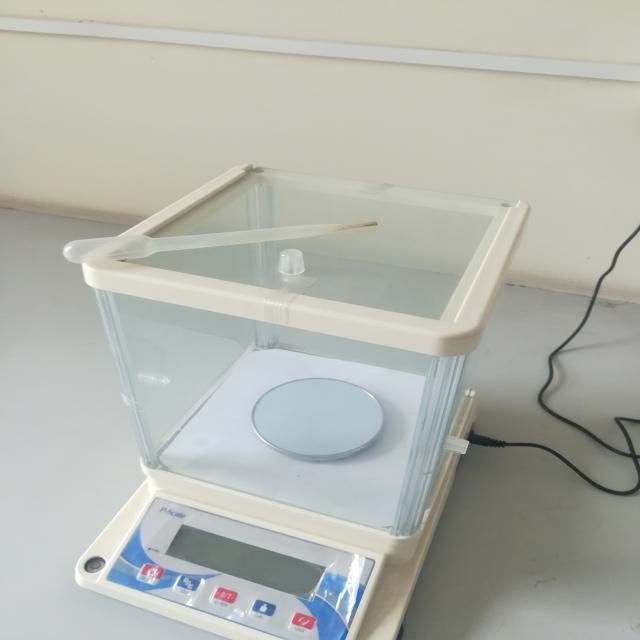Pipette: (28, 202, 442, 284)
